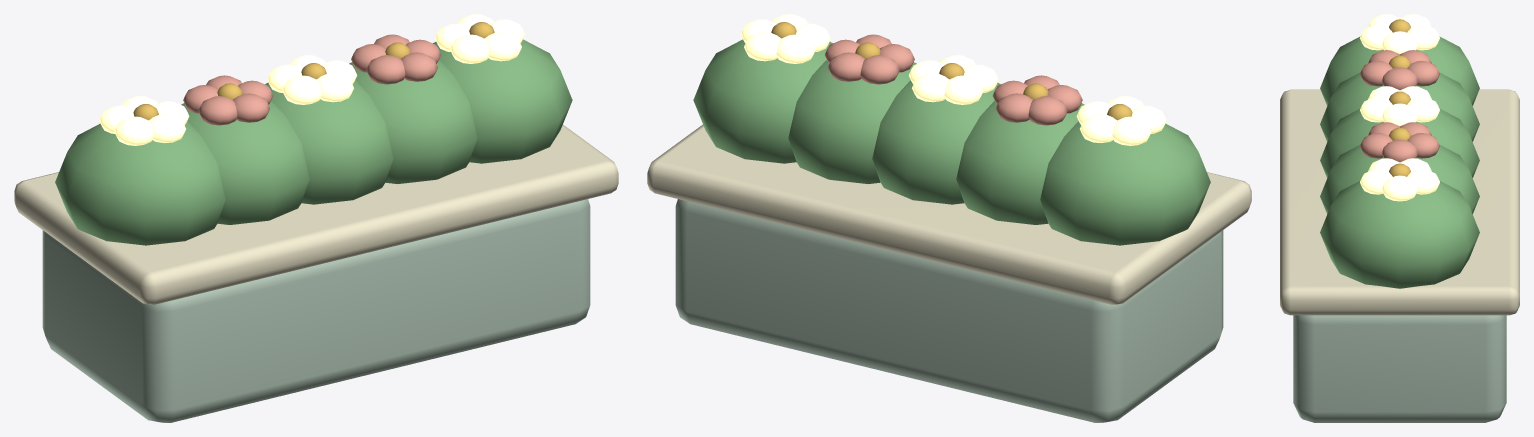
File: flower_planter.glb
The picture shows the model from 3 angles, left to right: view 1: azimuth 30°, elevation 25°; view 2: azimuth 150°, elevation 25°; view 3: azimuth 270°, elevation 25°; orthographic projection. The views are drawn at different scales.
Visible parts, largest first — view 1: Planter, Coping, Foliage, Foliage.004, Foliage.002, Foliage.001, Foliage.003, Petal.008, Petal.018, Petal.013, Petal.003, Petal.023 (+10 smaller); view 2: Planter, Coping, Foliage, Foliage.004, Foliage.002, Foliage.001, Foliage.003, Petal.007, Petal.017, Petal.012, Petal.002, Petal.022 (+10 smaller); view 3: Coping, Planter, Foliage.004, Foliage, Foliage.002, Foliage.001, Foliage.003, Petal.020, Petal.010, Petal.005, Petal.015, Petal (+20 smaller).
Part boxes in pixels (x1,y1,x2,y2): Planter: (42, 199, 590, 422); Coping: (14, 124, 618, 304); Foliage: (55, 121, 225, 245); Foliage.004: (433, 39, 572, 163); Foliage.002: (265, 80, 393, 204); Foliage.001: (181, 101, 309, 224); Foliage.003: (349, 60, 477, 183); Petal.008: (198, 96, 237, 125); Petal.018: (366, 55, 405, 84); Petal.013: (282, 75, 321, 104); Petal.003: (114, 116, 153, 145); Petal.023: (450, 34, 489, 63); Planter: (675, 199, 1223, 422); Coping: (647, 124, 1251, 304); Foliage: (1040, 121, 1210, 245); Foliage.004: (693, 39, 832, 163); Foliage.002: (872, 80, 1000, 204); Foliage.001: (956, 101, 1084, 224); Foliage.003: (788, 60, 916, 183); Petal.007: (1028, 96, 1067, 125); Petal.017: (860, 55, 899, 84); Petal.012: (944, 75, 983, 104); Petal.002: (1112, 116, 1151, 145); Petal.022: (776, 34, 815, 63); Coping: (1280, 89, 1519, 315); Planter: (1293, 315, 1506, 422); Foliage.004: (1320, 181, 1479, 288); Foliage: (1320, 36, 1479, 105); Foliage.002: (1320, 108, 1479, 177); Foliage.001: (1320, 72, 1479, 141); Foliage.003: (1320, 145, 1479, 213); Petal.020: (1382, 175, 1417, 201); Petal.010: (1382, 103, 1417, 126); Petal.005: (1382, 67, 1417, 89); Petal.015: (1382, 139, 1417, 162); Petal: (1382, 31, 1417, 53).
Bounding box in the file's own units: 1.88 × 1 × 0.9.
